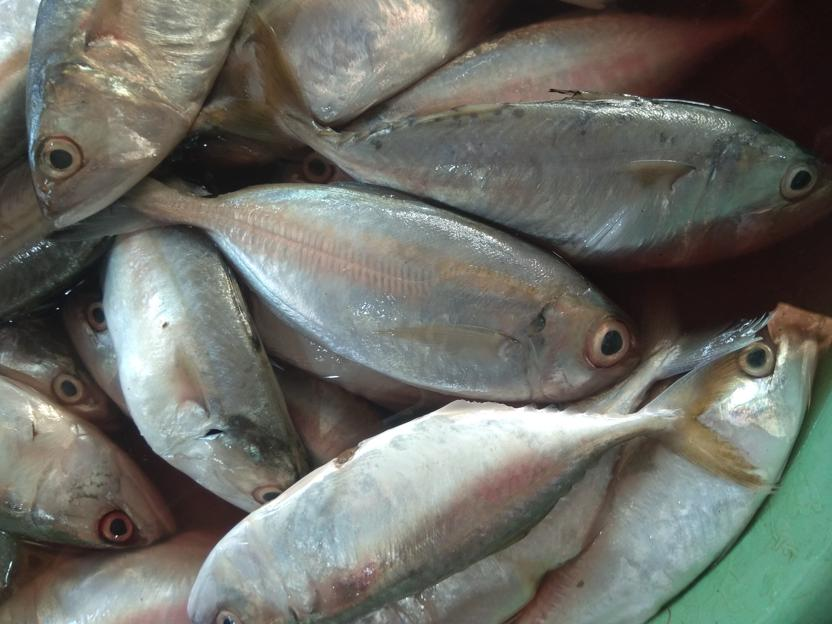Fish head: (23, 65, 177, 229), (32, 434, 177, 552), (710, 325, 816, 465), (530, 284, 639, 403), (177, 417, 310, 513), (187, 522, 310, 624), (726, 131, 831, 250), (5, 320, 108, 423), (59, 288, 130, 400)
Fish tail: (647, 345, 772, 488), (205, 8, 316, 145), (43, 173, 168, 239)
